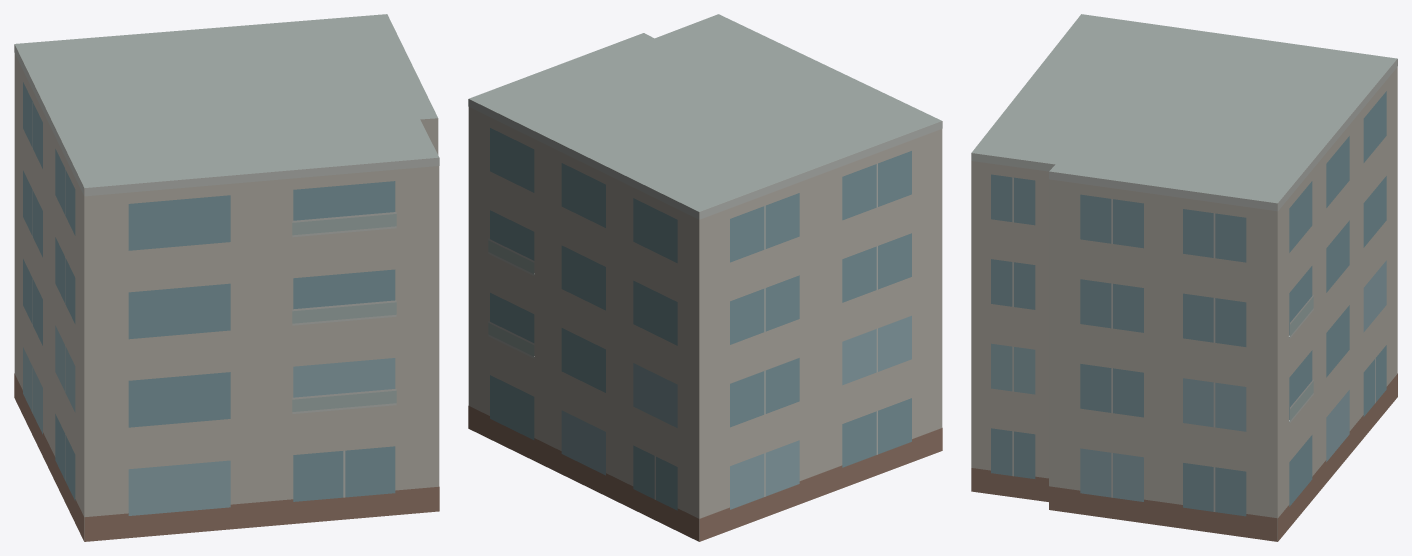
The model's file is survey-upis-33014934.glb.
The picture shows the model from 3 angles, left to right: view 1: azimuth 30°, elevation 25°; view 2: azimuth 150°, elevation 25°; view 3: azimuth 270°, elevation 25°; orthographic projection. The views are drawn at different scales.
Visible parts, largest first — view 1: survey-upis-33014934.tmp; view 2: survey-upis-33014934.tmp; view 3: survey-upis-33014934.tmp.
Part boxes in pixels (box(x1,y1,x2,y2)): survey-upis-33014934.tmp: box(14, 14, 439, 541); survey-upis-33014934.tmp: box(468, 14, 942, 541); survey-upis-33014934.tmp: box(971, 14, 1397, 541).
Size of the model in its own units: 12.49 by 10.4 by 11.88.
